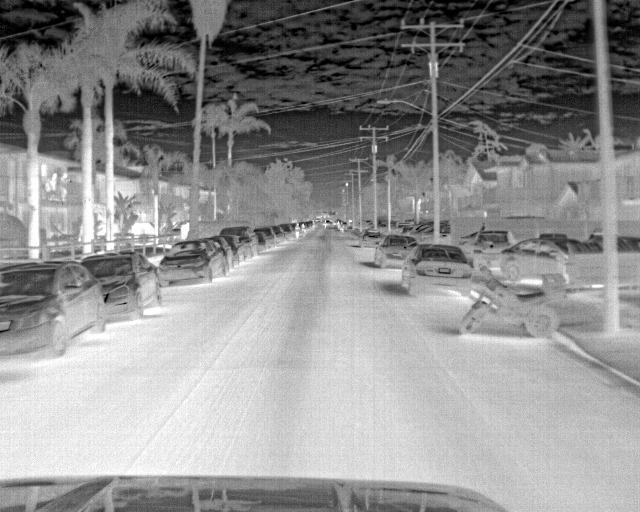bicycle: (453, 271, 568, 337)
car: (0, 261, 113, 362), (82, 249, 161, 316), (499, 235, 592, 281), (402, 243, 466, 293), (161, 240, 228, 283), (472, 228, 516, 267), (372, 234, 416, 271), (219, 226, 258, 256), (221, 235, 245, 264), (358, 226, 386, 246), (257, 227, 275, 247), (281, 223, 296, 240), (255, 232, 268, 250), (273, 226, 285, 242)
